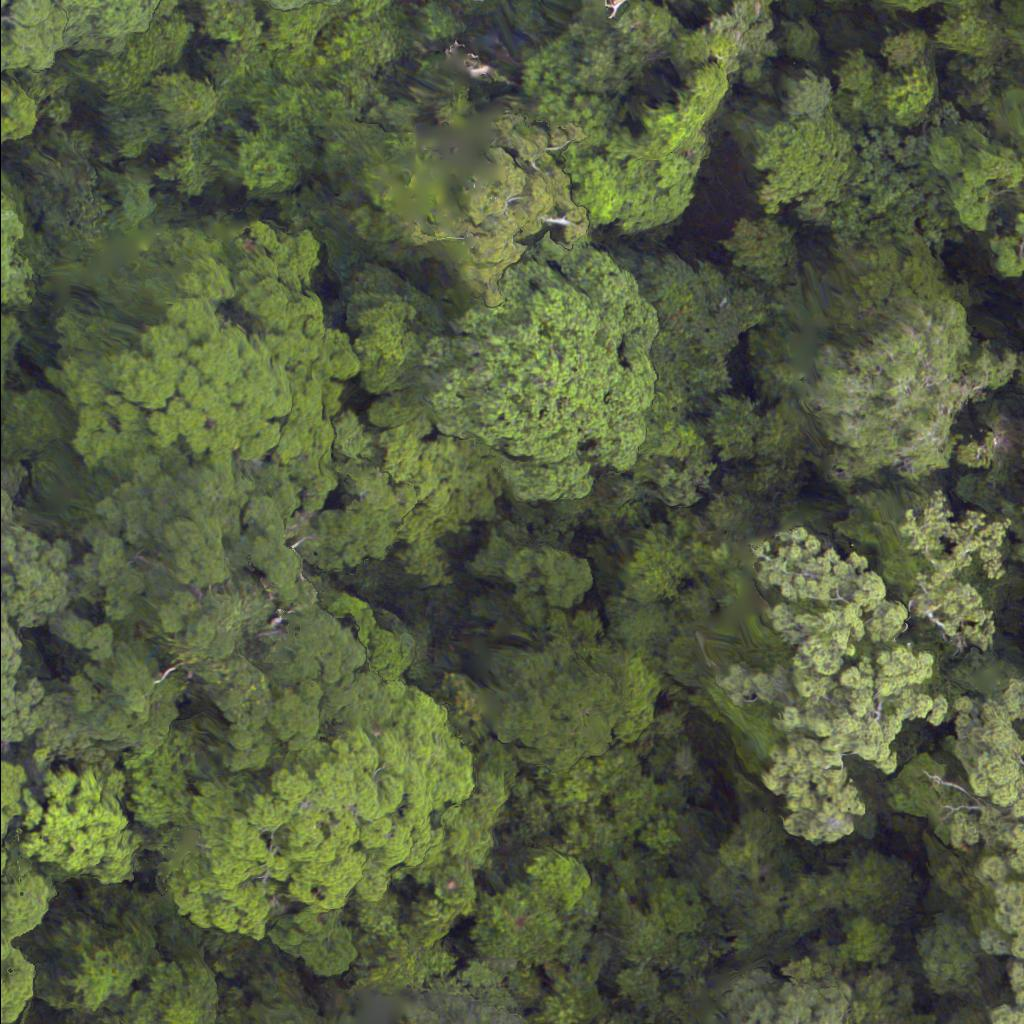crown: (74, 463, 404, 813), (54, 216, 360, 504), (741, 522, 939, 834), (450, 247, 651, 509), (520, 0, 733, 236), (475, 530, 631, 775), (410, 115, 588, 283), (15, 754, 159, 896), (0, 761, 71, 1023), (928, 683, 1023, 867), (0, 467, 58, 764), (906, 495, 1023, 642), (753, 115, 856, 211), (968, 873, 1023, 1023), (52, 0, 173, 62), (741, 983, 859, 1023), (379, 1001, 544, 1023), (0, 317, 14, 412)
